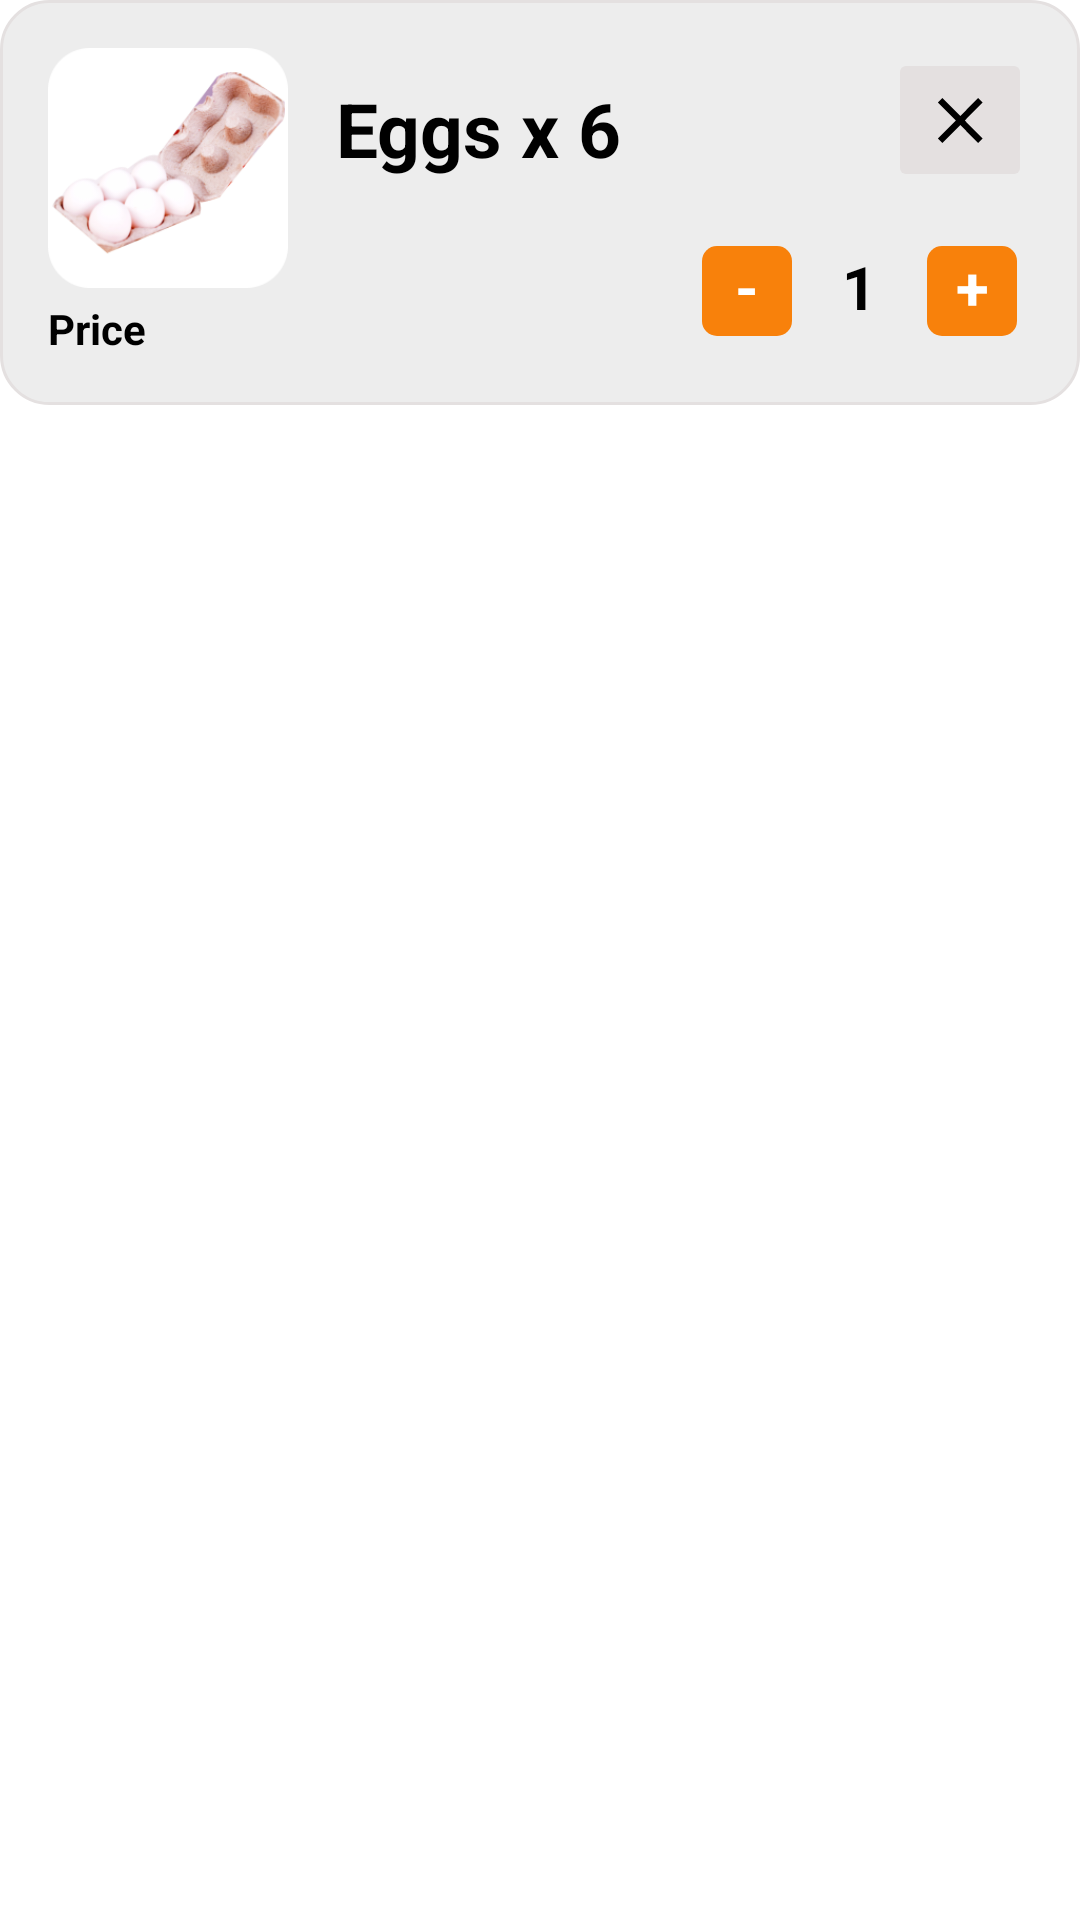

Icons on this 1080w x 1920h Android screen, each with the point to tap as (x,y):
eggimage: (168,168)
remove item: (960,120)
